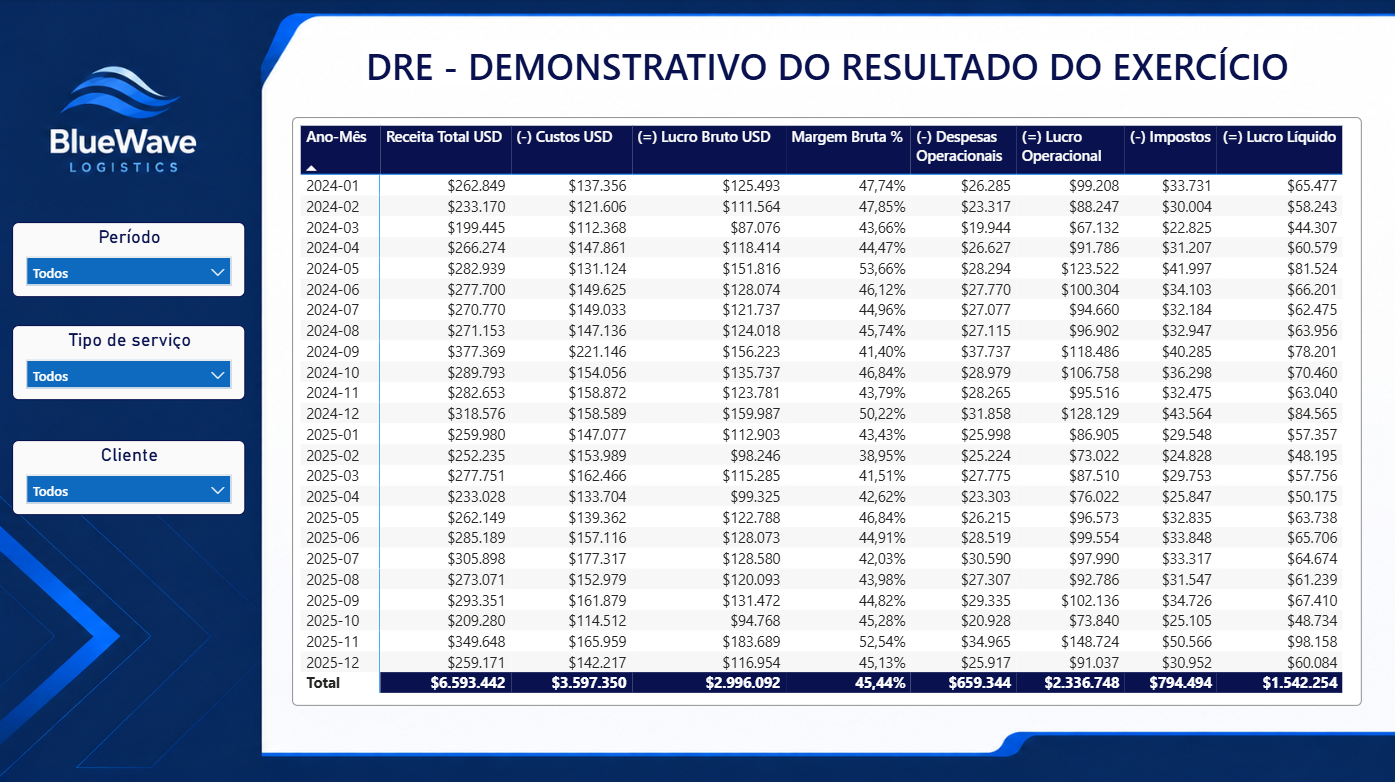

What the dashboard file says about the page in this screenshot:
{"tool":"powerbi","page":{"name":"DRE","canvas":[1280,720],"ordinal":0},"visuals":[{"type":"pivotTable","fields":{"Rows":["Calendario.AnoMes"],"Values":["Medidas.Receita Total USD","Medidas.Custo Total USD","Medidas.Lucro Bruto USD","Medidas.Margem Bruta %","Medidas.Despesas Operacionais","Medidas.Lucro Operacional","Medidas.Impostos","Medidas.Lucro Liquido"]},"box":[269,108.4,981.3,540.1],"z":0},{"type":"shape","box":[333.8,38.3,851.6,41.5],"z":1000},{"type":"slicer","title":"Período","fields":{"Values":["Calendario.AnoMes"]},"box":[8.5,160.5,213.7,69.1],"z":2000},{"type":"slicer","title":"Tipo de serviço","fields":{"Values":["DimTipoServico.tipo_servico"]},"box":[8.5,255.1,213.7,69.1],"z":3000},{"type":"slicer","title":"Cliente","fields":{"Values":["CLIENTES.nome"]},"box":[8.5,360.4,213.7,69.1],"z":4000}]}

Visuals, with their boxes in screenshot pixels (x1, y1, x2, y2), scaled from the page's 1280x720 canvas onto the 1395x782 screenshot:
pivotTable - Calendario.AnoMes x Medidas.Receita Total USD: {"left": 293, "top": 118, "right": 1363, "bottom": 704}
shape: {"left": 364, "top": 42, "right": 1292, "bottom": 87}
"Período" slicer: {"left": 9, "top": 174, "right": 242, "bottom": 249}
"Tipo de serviço" slicer: {"left": 9, "top": 277, "right": 242, "bottom": 352}
"Cliente" slicer: {"left": 9, "top": 391, "right": 242, "bottom": 466}
